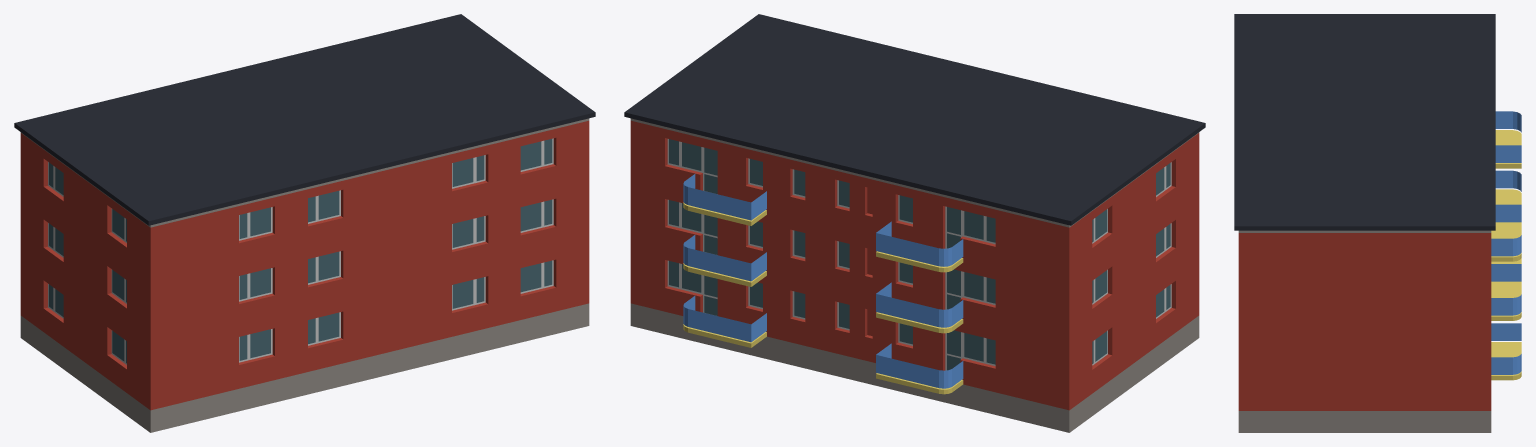
The model's file is tower_house_02.fbx.
3 renders of one model, left to right at view 1: azimuth 30°, elevation 25°; view 2: azimuth 150°, elevation 25°; view 3: azimuth 270°, elevation 25°, orthographic. The views are drawn at different scales.
Visible parts, largest first — view 1: tower_house_02, tower_house_02-2; view 2: tower_house_02, tower_house_02-2; view 3: tower_house_02-2, tower_house_02.
Boxes of the visible parts, x1,y1,x2,y2 form: tower_house_02: (20, 120, 589, 410); tower_house_02-2: (14, 14, 595, 432); tower_house_02: (630, 120, 1199, 410); tower_house_02-2: (624, 14, 1205, 432); tower_house_02-2: (1234, 14, 1495, 432); tower_house_02: (1238, 111, 1521, 410).
Bounding box in the file's own units: 2073 × 950 × 1187.
